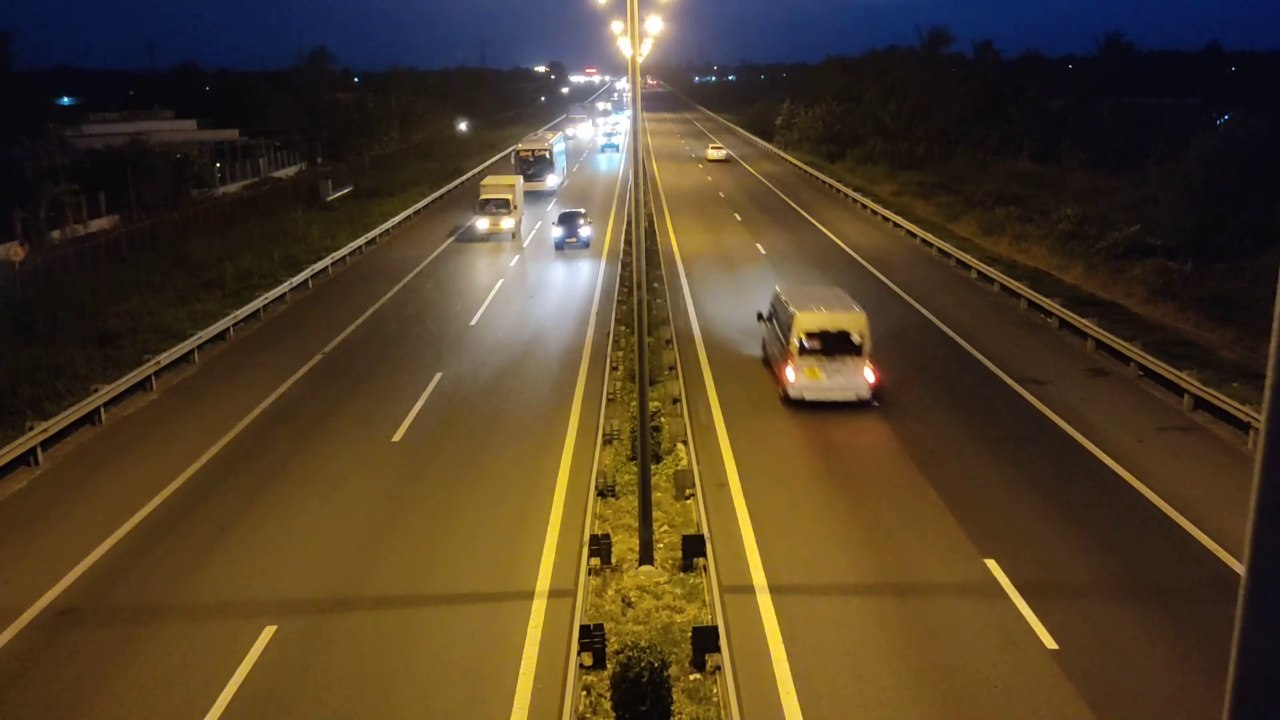car: (755, 281, 885, 408), (551, 208, 594, 250), (705, 145, 729, 161)
truck: (513, 129, 569, 193), (473, 175, 526, 241)
